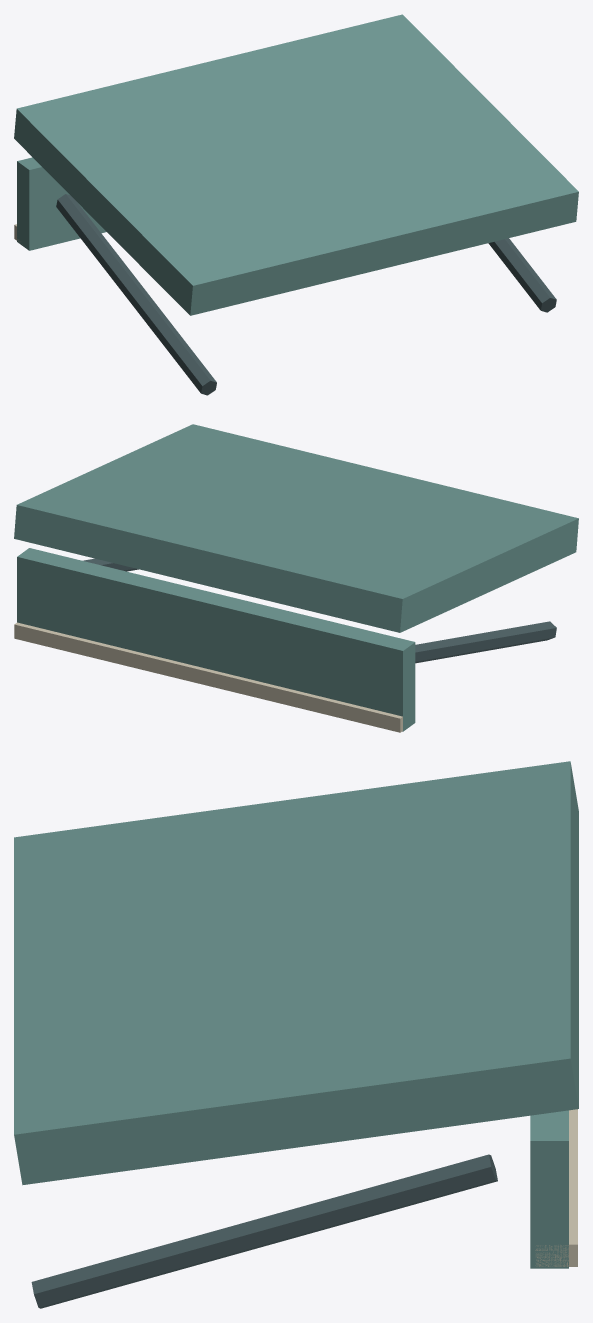
The model's file is awning.glb.
3 views of the same model, one above another, from view 1: azimuth 30°, elevation 25°; view 2: azimuth 150°, elevation 25°; view 3: azimuth 270°, elevation 25° (orthographic). The views are drawn at different scales.
Visible parts, largest first — view 1: CITY_awning; view 2: CITY_awning; view 3: CITY_awning.
Boxes of the visible parts, x1,y1,x2,y2 form: CITY_awning: [14, 14, 578, 395]; CITY_awning: [14, 424, 578, 732]; CITY_awning: [14, 761, 578, 1308].
Bounding box in the file's own units: 1 × 0.4204 × 0.803.
